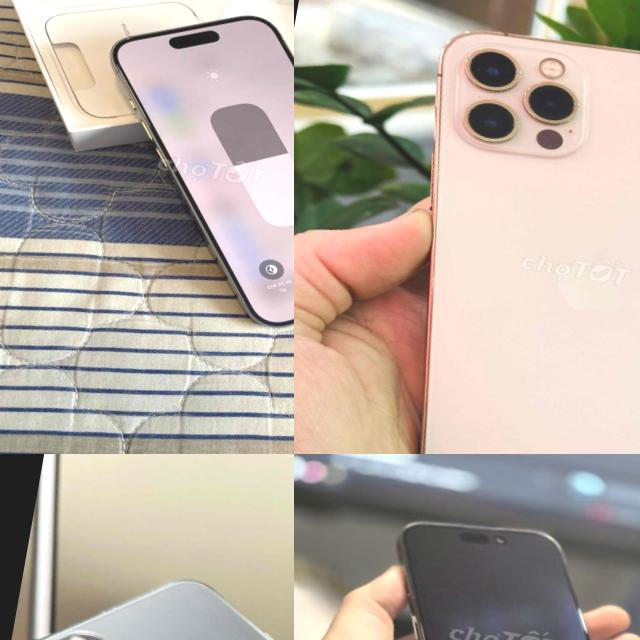gen_11: (0, 544, 294, 640)
gen_12_13: (418, 32, 640, 454)
gen_15: (21, 0, 294, 358), (334, 468, 640, 640)
